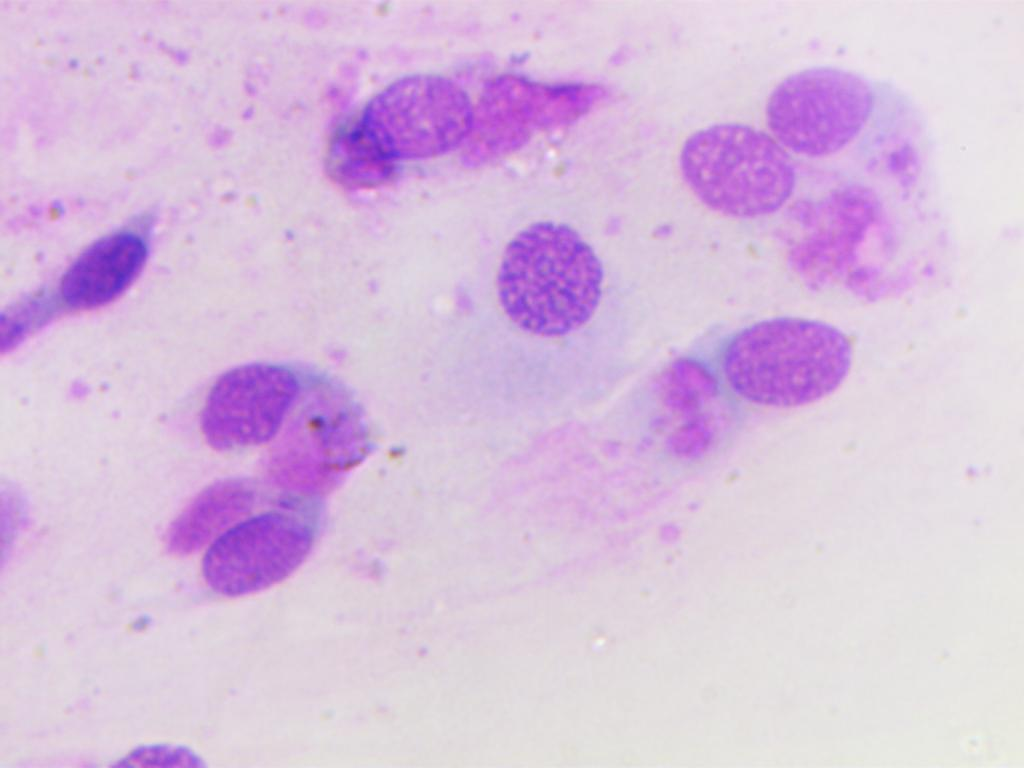artifact: (781, 180, 942, 310)
epithelial: (630, 311, 863, 471), (310, 54, 480, 195), (178, 355, 383, 466), (156, 474, 321, 610), (677, 114, 802, 238), (46, 198, 169, 324), (492, 213, 608, 345), (764, 61, 900, 161)
